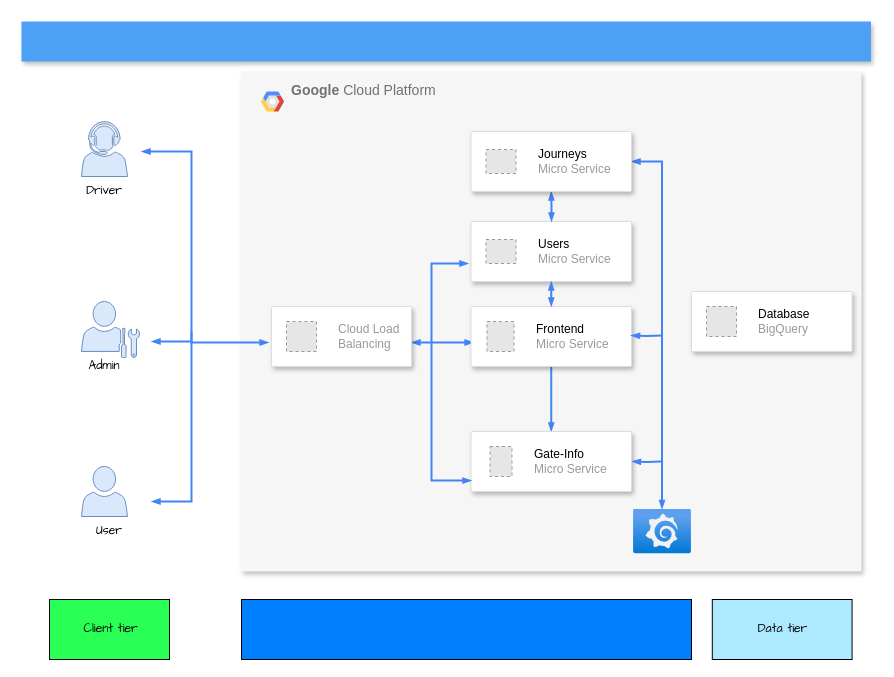
Some shapes in this 894 by 677 pixel diagram are drawn without their labels. Grey dashed boxes stand in for pictures. The centre of each missing label's shape, as x and y in pixels:
"Architecture: Bus Management System" belongs at pixel 446 42.
"Web tier" belongs at pixel 466 629.
